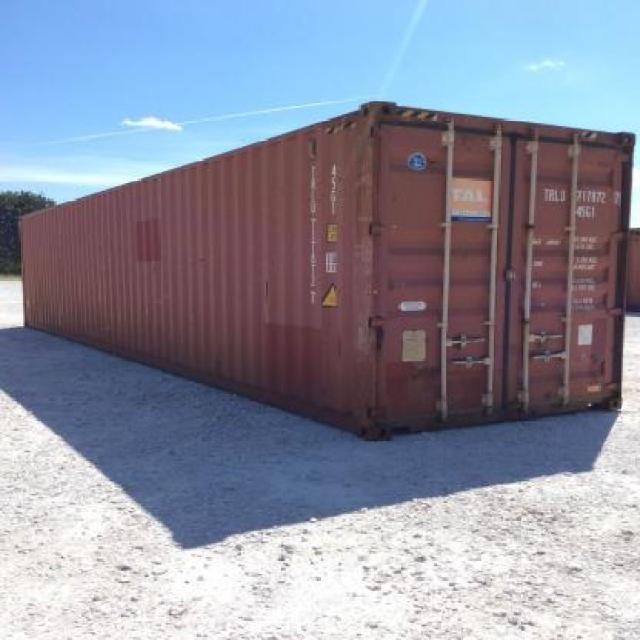ISO: (572, 205, 596, 219)
container_number: (540, 190, 619, 203)
